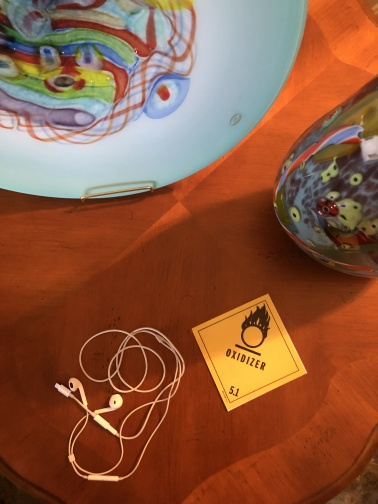Oxidizer: (192, 294, 308, 411)
